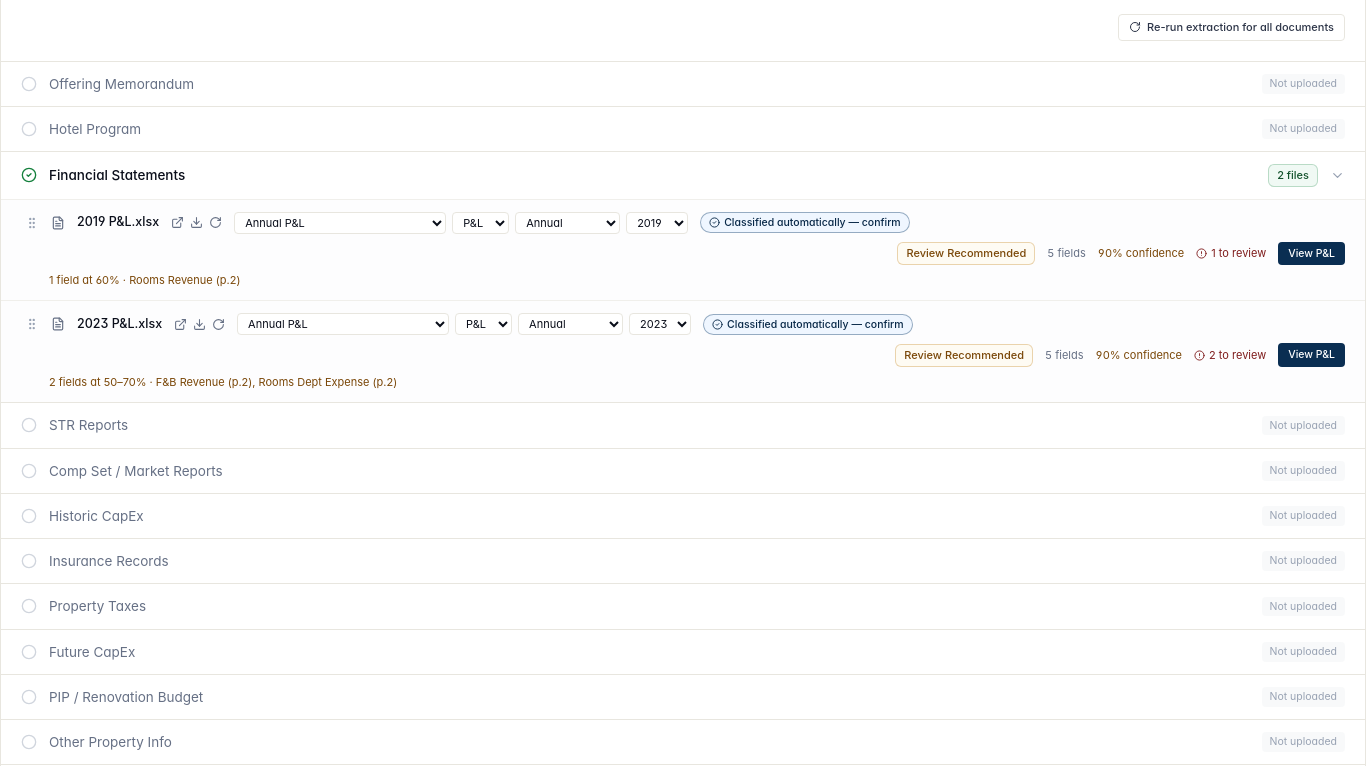
Scenario: Data Room — reason line on financial statements (FON-41 testers) › clicking the reason opens the inline field review on those cells (count == badge), not the Financials deep link
(page scrolled)
Click the button "2 fields at 50–70% · F&B Revenue (p.2), Rooms Dept Expense (p.2)" at (223, 382), box [49, 375, 1345, 390]
(page scrolled)
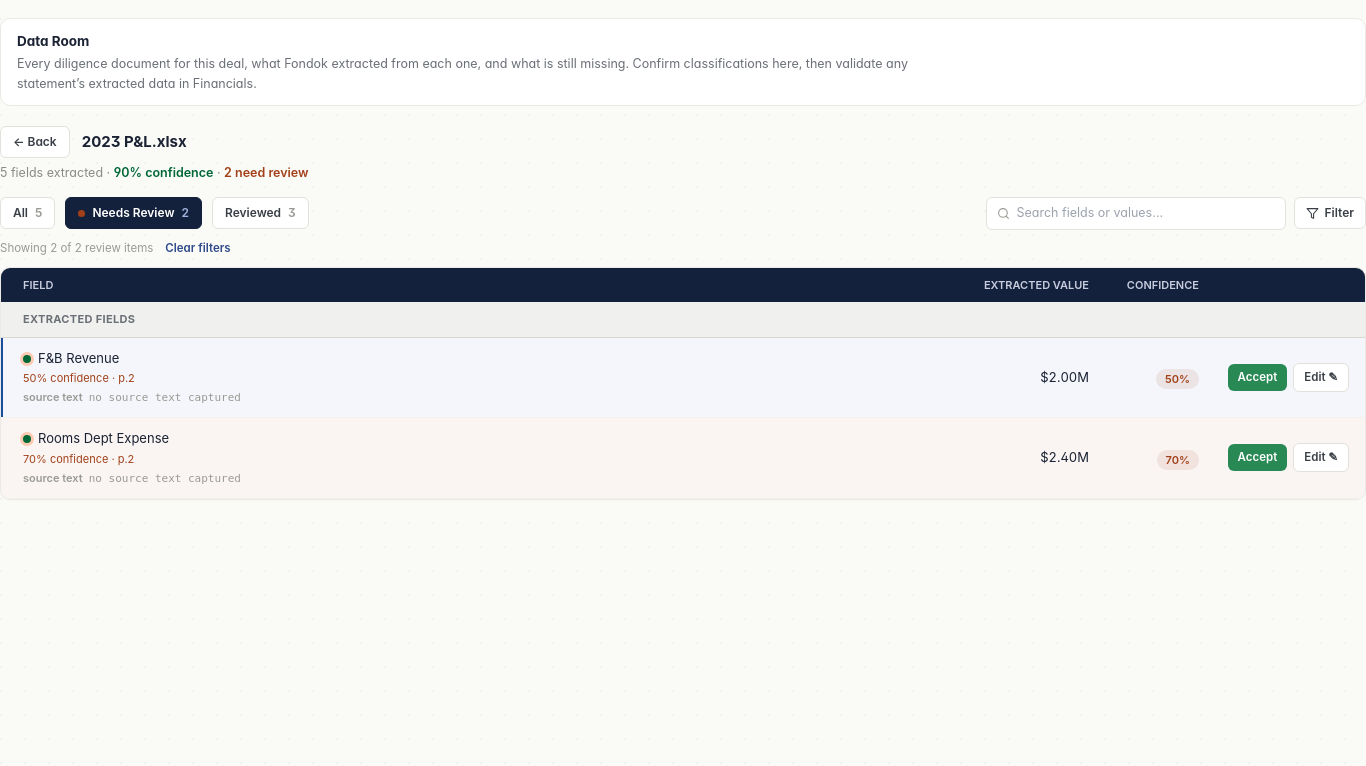
Expected: the button "2 need review" is shown, [224, 165, 309, 180]
Expected: the text "50% confidence · p.2" is shown, [23, 371, 135, 385]
Expected: the text "70% confidence · p.2" is shown, [23, 452, 134, 466]
